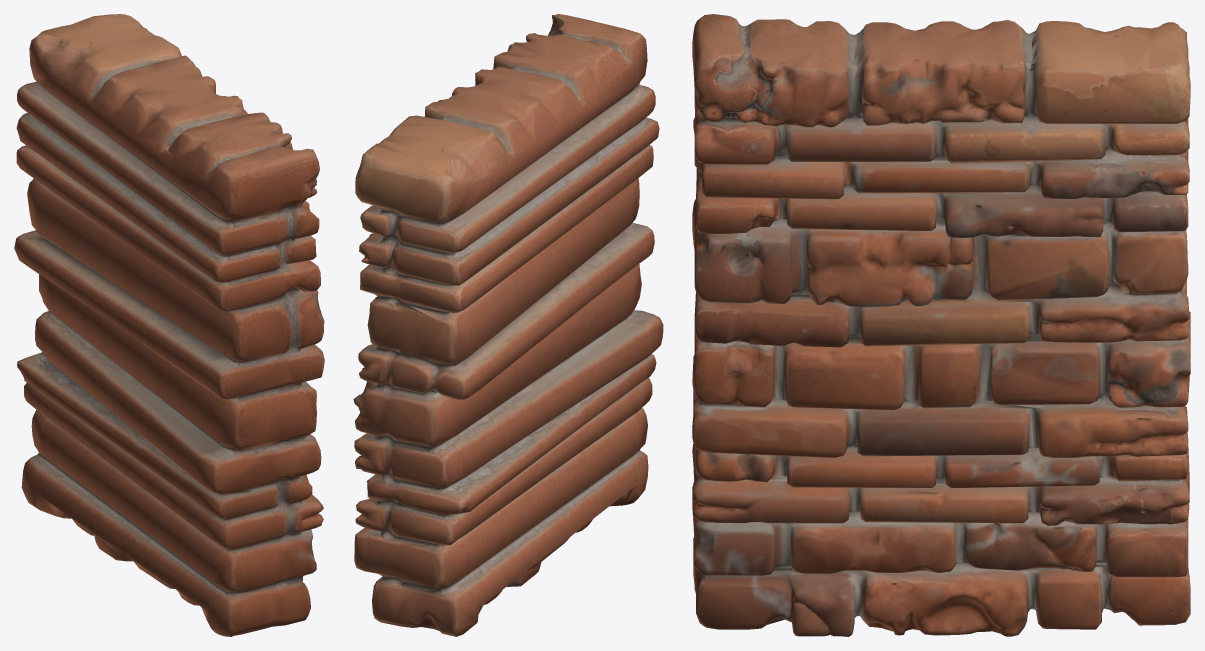
The model's file is brick+wall+3d+model.glb.
3 renders of one model, left to right at view 1: azimuth 30°, elevation 25°; view 2: azimuth 150°, elevation 25°; view 3: azimuth 270°, elevation 25°, orthographic. The views are drawn at different scales.
Visible parts, largest first — view 1: tripo_node_55befed8-c0f2-4598-a100-75783dbe1b5e; view 2: tripo_node_55befed8-c0f2-4598-a100-75783dbe1b5e; view 3: tripo_node_55befed8-c0f2-4598-a100-75783dbe1b5e.
Boxes of the visible parts, x1,y1,x2,y2 form: tripo_node_55befed8-c0f2-4598-a100-75783dbe1b5e: (14, 14, 324, 636); tripo_node_55befed8-c0f2-4598-a100-75783dbe1b5e: (353, 14, 663, 636); tripo_node_55befed8-c0f2-4598-a100-75783dbe1b5e: (692, 14, 1190, 636).
Bounding box in the file's own units: 0.2559 × 0.998 × 0.791.
1 material, 1 textured.
